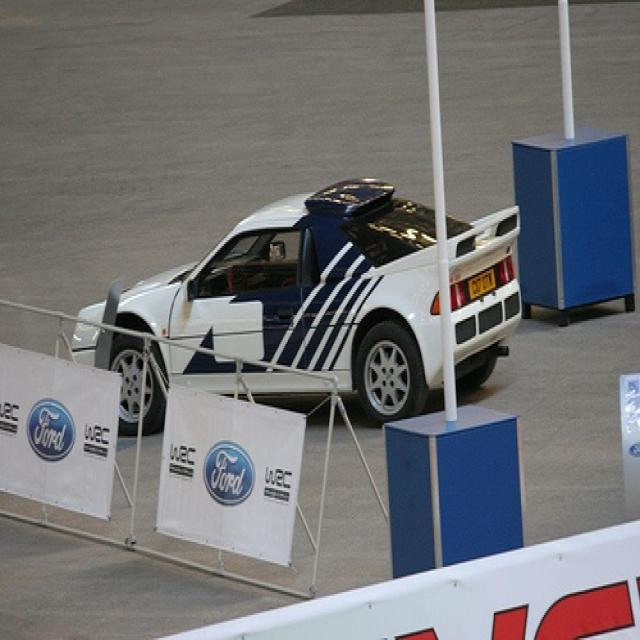car: (68, 177, 525, 432)
